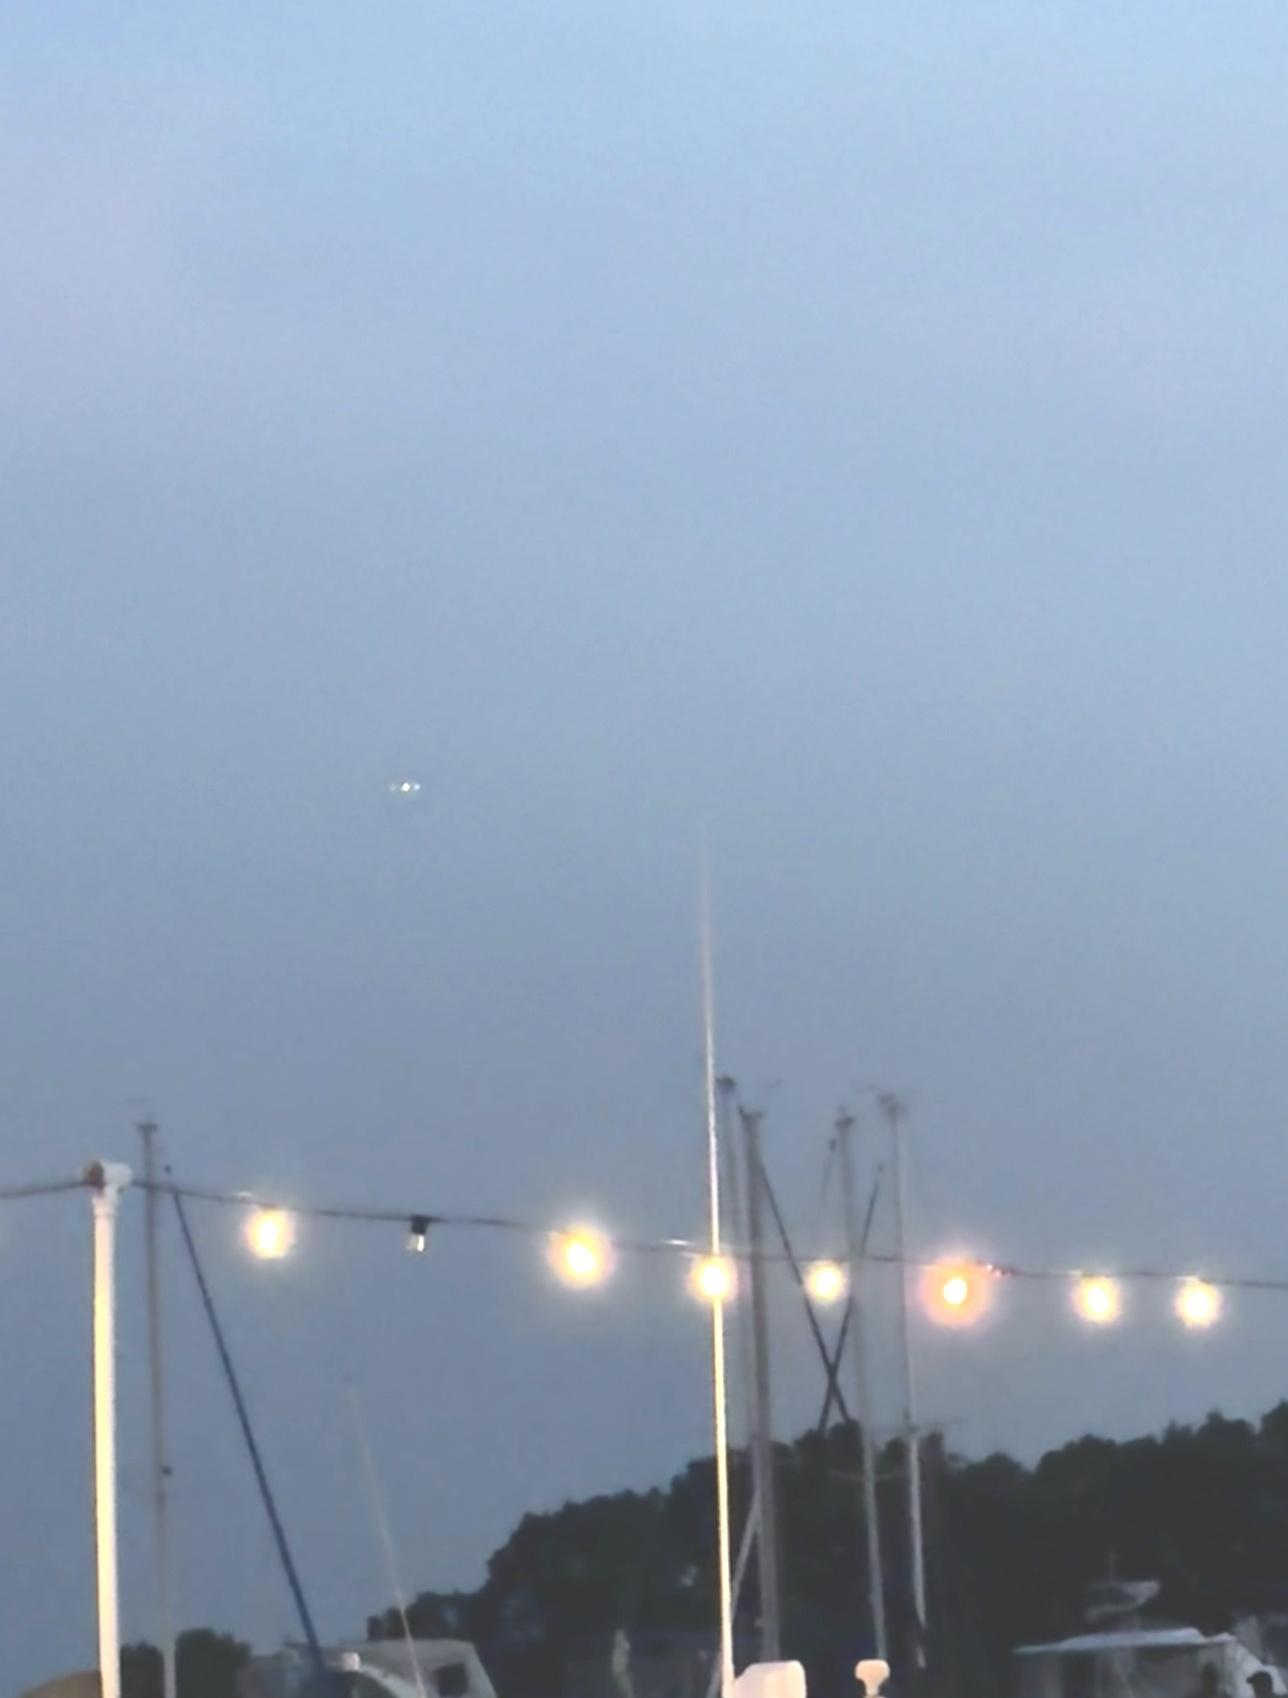Plane: (379, 764, 442, 800)
